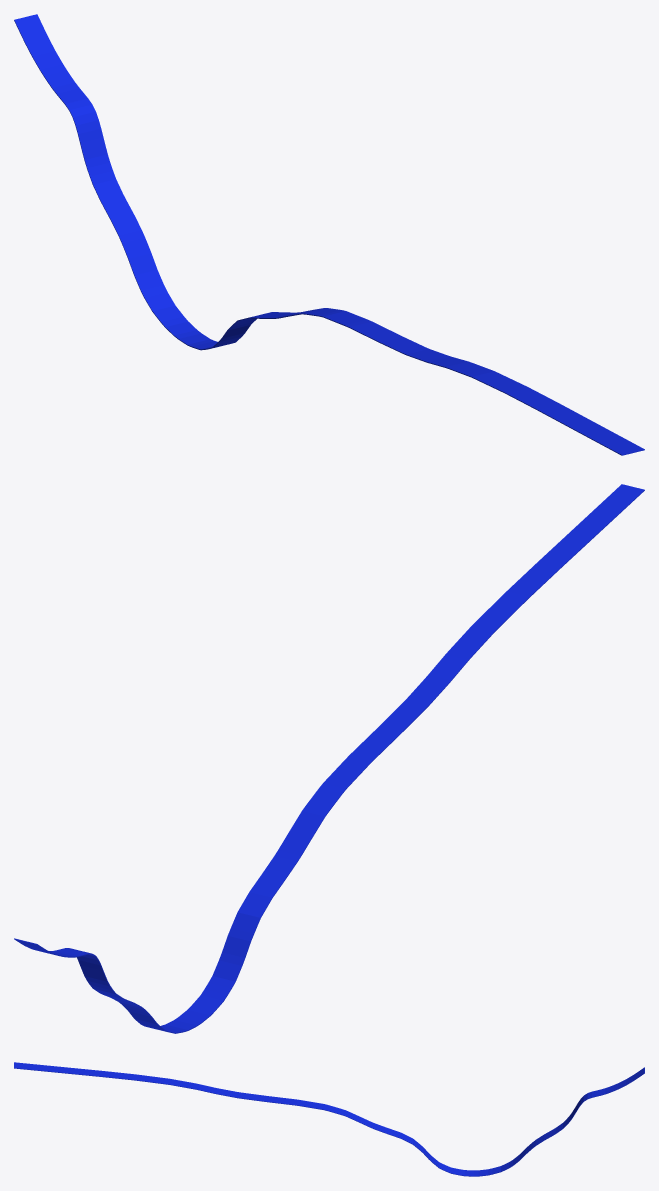
The model's file is slope.fbx.
3 renders of one model, top to bottom at view 1: azimuth 30°, elevation 25°; view 2: azimuth 150°, elevation 25°; view 3: azimuth 270°, elevation 25°, orthographic. The views are drawn at different scales.
Visible parts, largest first — view 1: Cube; view 2: Cube; view 3: Cube.
Boxes of the visible parts, bbox=[...] form: Cube: bbox=[14, 14, 644, 455]; Cube: bbox=[14, 484, 644, 1033]; Cube: bbox=[14, 1062, 644, 1176].
Size of the model in its own units: 300 by 2597 by 13679.
